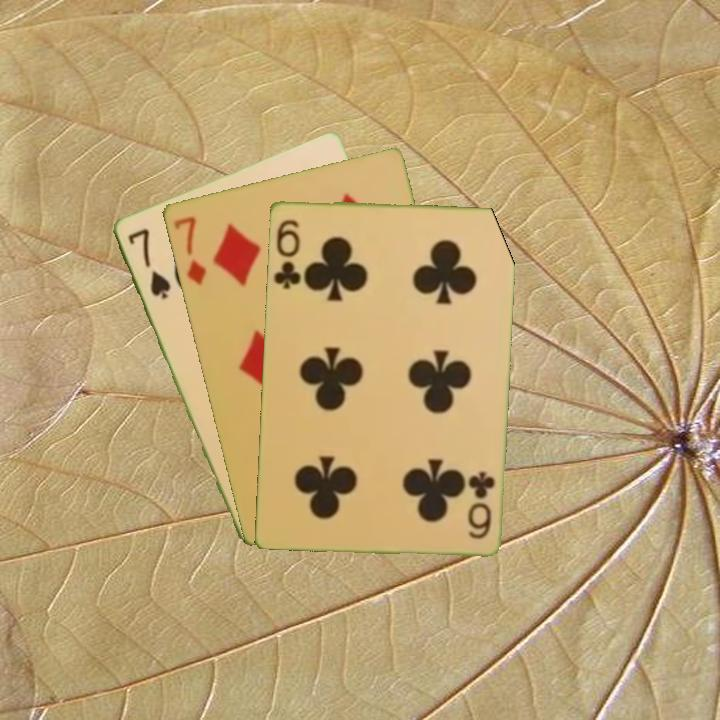6c: (464, 467, 498, 541), (270, 216, 303, 292)
7d: (170, 212, 209, 288)
7s: (124, 224, 173, 301)
